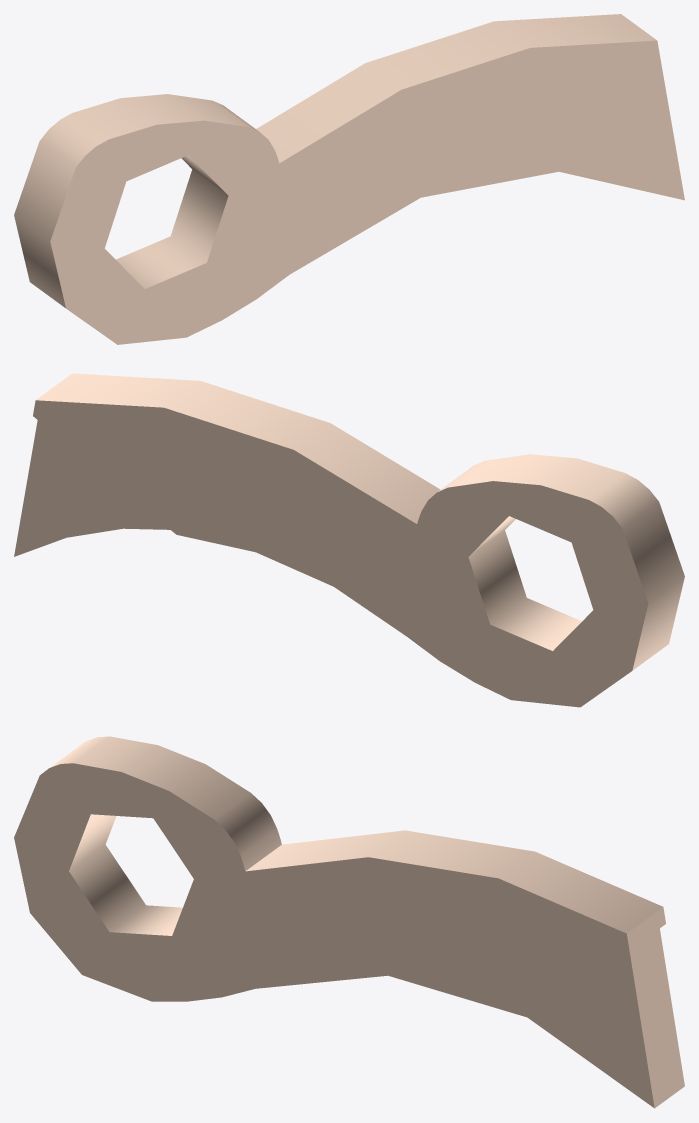
Rendered from Cliquet anti-retour.obj.
3 renders of one model, top to bottom at view 1: azimuth 30°, elevation 25°; view 2: azimuth 150°, elevation 25°; view 3: azimuth 330°, elevation 25°, orthographic.
Parts seen in each view (by area): view 1: Face_4, Face_5, Face_12, Face_7, Face_9, Face_8; view 2: Face_1, Face_5, Face_13, Face_12, Face_7, Face_9, Face_8; view 3: Face_4, Face_5, Face_2, Face_12, Face_9, Face_10, Face_11.
Boxes of the visible parts, x1,y1,x2,y2 form: Face_4: [50, 40, 684, 344]; Face_5: [256, 14, 656, 163]; Face_12: [116, 155, 228, 288]; Face_7: [14, 141, 75, 308]; Face_9: [73, 94, 247, 139]; Face_8: [40, 113, 108, 167]; Face_1: [33, 400, 648, 707]; Face_5: [36, 373, 440, 523]; Face_13: [14, 420, 169, 556]; Face_12: [468, 516, 581, 650]; Face_7: [623, 502, 684, 670]; Face_9: [448, 454, 625, 499]; Face_8: [589, 473, 658, 528]; Face_4: [14, 763, 654, 1108]; Face_5: [246, 830, 662, 933]; Face_2: [627, 907, 684, 1107]; Face_12: [69, 814, 182, 935]; Face_9: [73, 736, 250, 819]; Face_10: [214, 793, 276, 855]; Face_11: [241, 829, 281, 870].
Bounding box in the file's own units: 0.0354 × 0.0117 × 0.0035.
